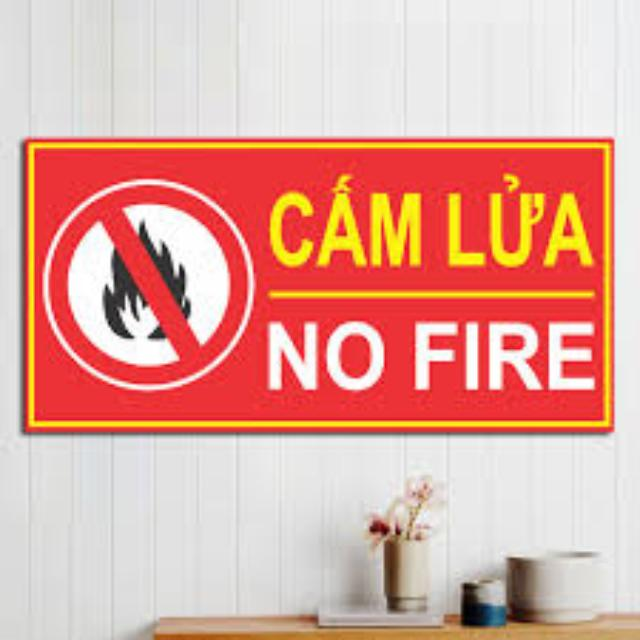cam lua: (23, 139, 612, 430)
